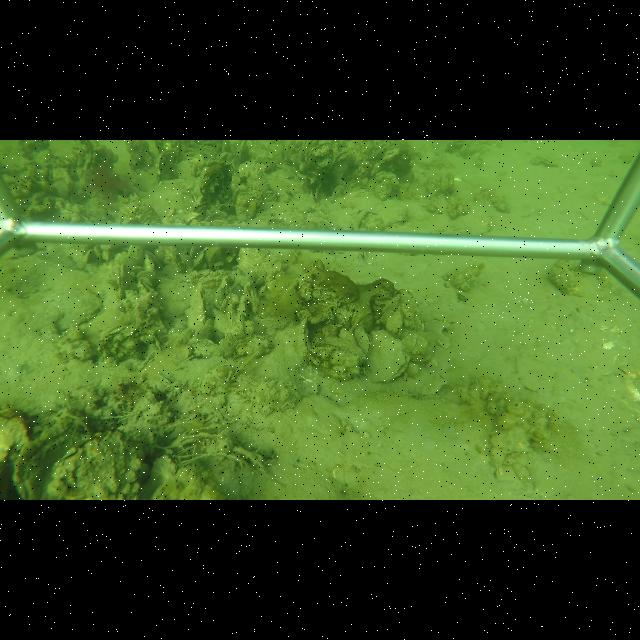Oyster-Closed: (364, 328, 414, 384), (397, 286, 426, 331), (284, 318, 311, 366), (186, 286, 208, 331)
